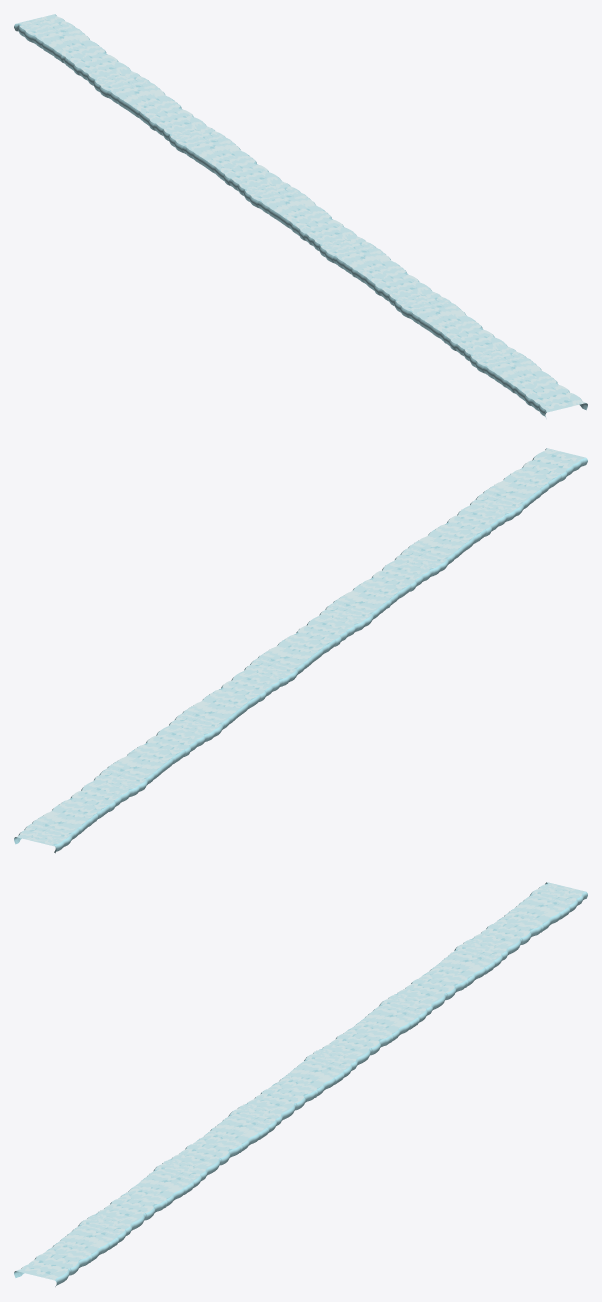
Rendered from Mesh_Adventure_Sky_Ground_01_SM.fbx.
3 views of the same model, one above another, from view 1: azimuth 30°, elevation 25°; view 2: azimuth 150°, elevation 25°; view 3: azimuth 330°, elevation 25° (orthographic).
Parts seen in each view (by area): view 1: Mesh_Adventure_Sky_Ground_01; view 2: Mesh_Adventure_Sky_Ground_01; view 3: Mesh_Adventure_Sky_Ground_01.
Part boxes in pixels (<box>): Mesh_Adventure_Sky_Ground_01: <box>14,14,587,418</box>; Mesh_Adventure_Sky_Ground_01: <box>14,448,587,853</box>; Mesh_Adventure_Sky_Ground_01: <box>14,882,587,1286</box>.
Size of the model in its own units: 176 by 26.55 by 3500.
1 material, 1 textured.
